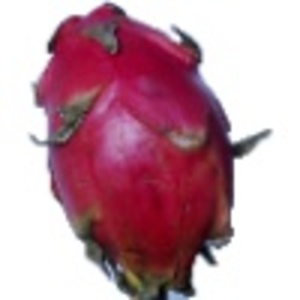pitaia: (30, 1, 272, 300)
